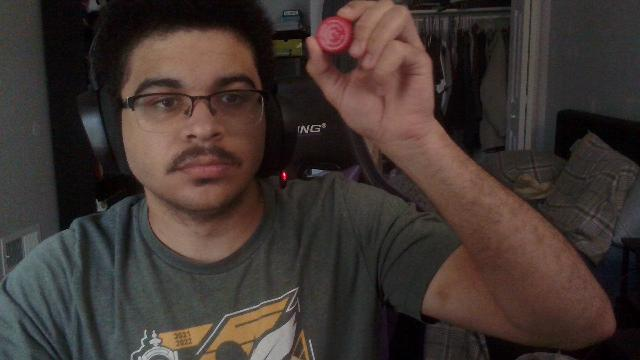cap: (317, 16, 353, 54)
